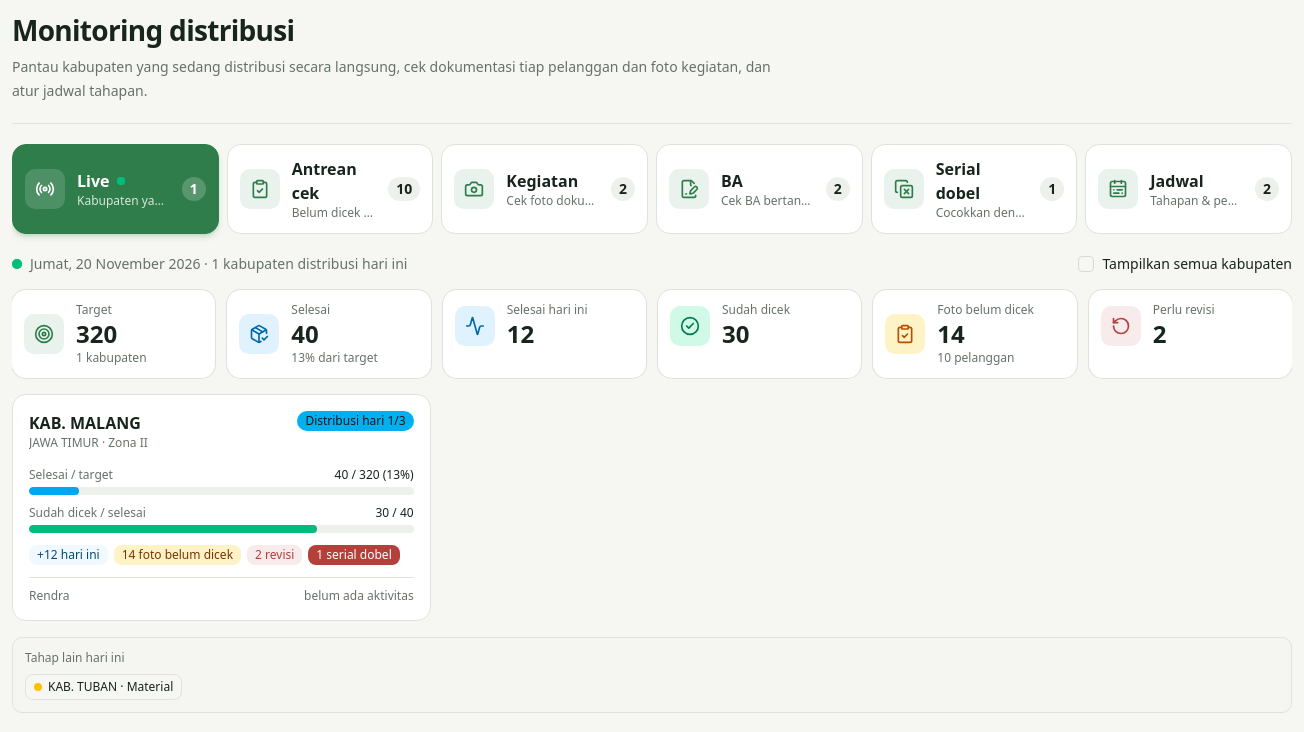
it: live shows only the kabupaten distributing today, all on request
This screenshot has width=1304, height=732.
Expected: the text "KAB. MALANG" is shown, [29,411,148,435]
Expected: the text "1 kabupaten distribusi hari ini" is shown, [12,254,407,274]
Click the checkbox named "Tampilkan semua kabupaten": (1086,264) [1078,256,1094,272]
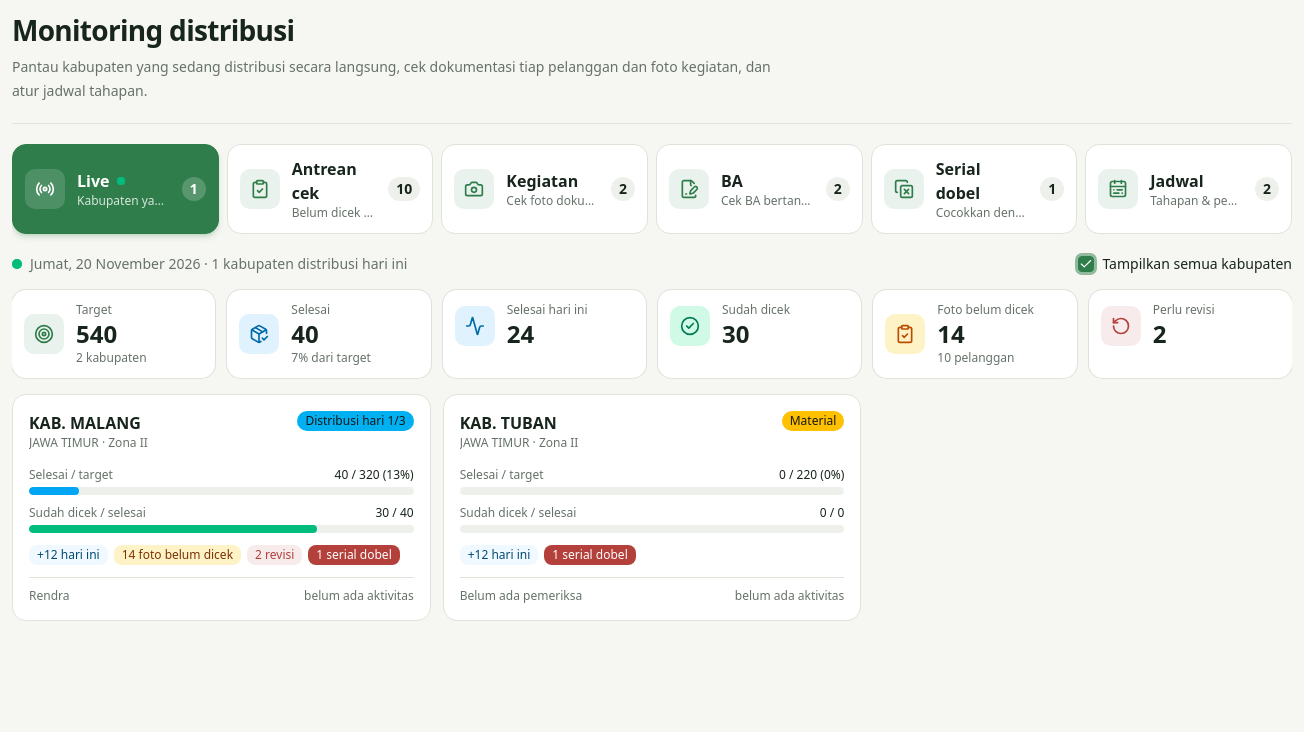
Result: the button "KAB. TUBAN" is shown at [443,394,861,621]
